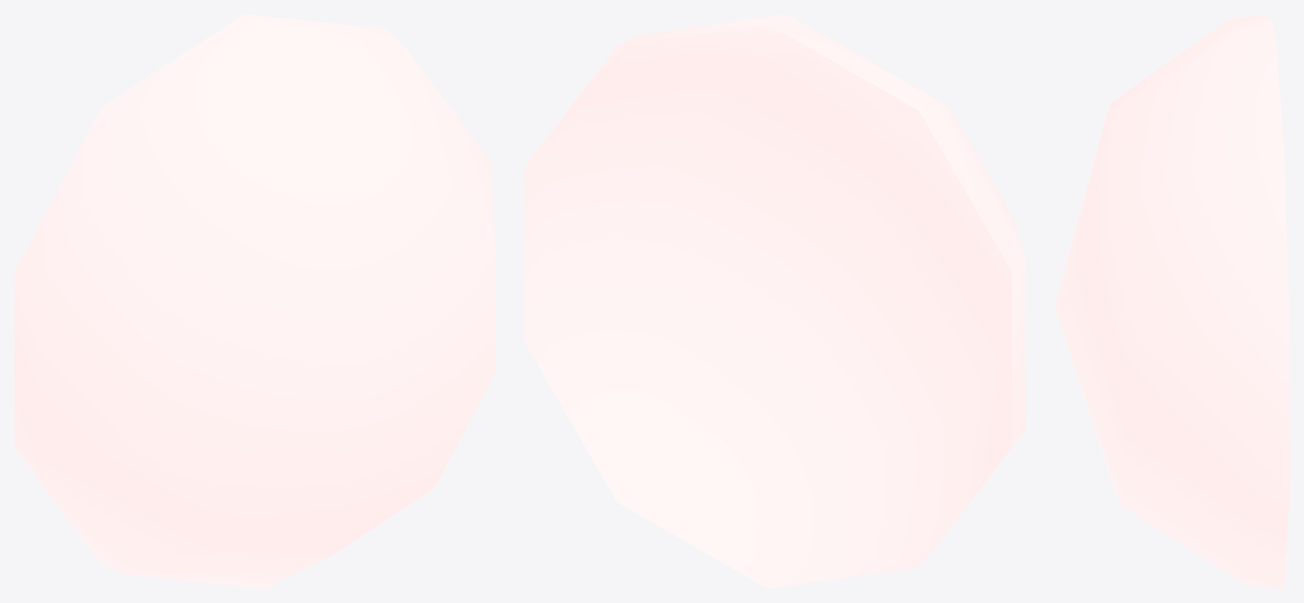
3 views of the same model, side by side, from view 1: azimuth 30°, elevation 25°; view 2: azimuth 150°, elevation 25°; view 3: azimuth 270°, elevation 25° (orthographic). The views are drawn at different scales.
Parts seen in each view (by area): view 1: light.006; view 2: light.006; view 3: light.006.
Boxes of the visible parts, left/top/right/bottom form: light.006: left=14, top=14, right=495, bottom=588; light.006: left=524, top=14, right=1025, bottom=588; light.006: left=1054, top=14, right=1289, bottom=588.
Size of the model in its own units: 0.438 by 0.5 by 0.1967.
